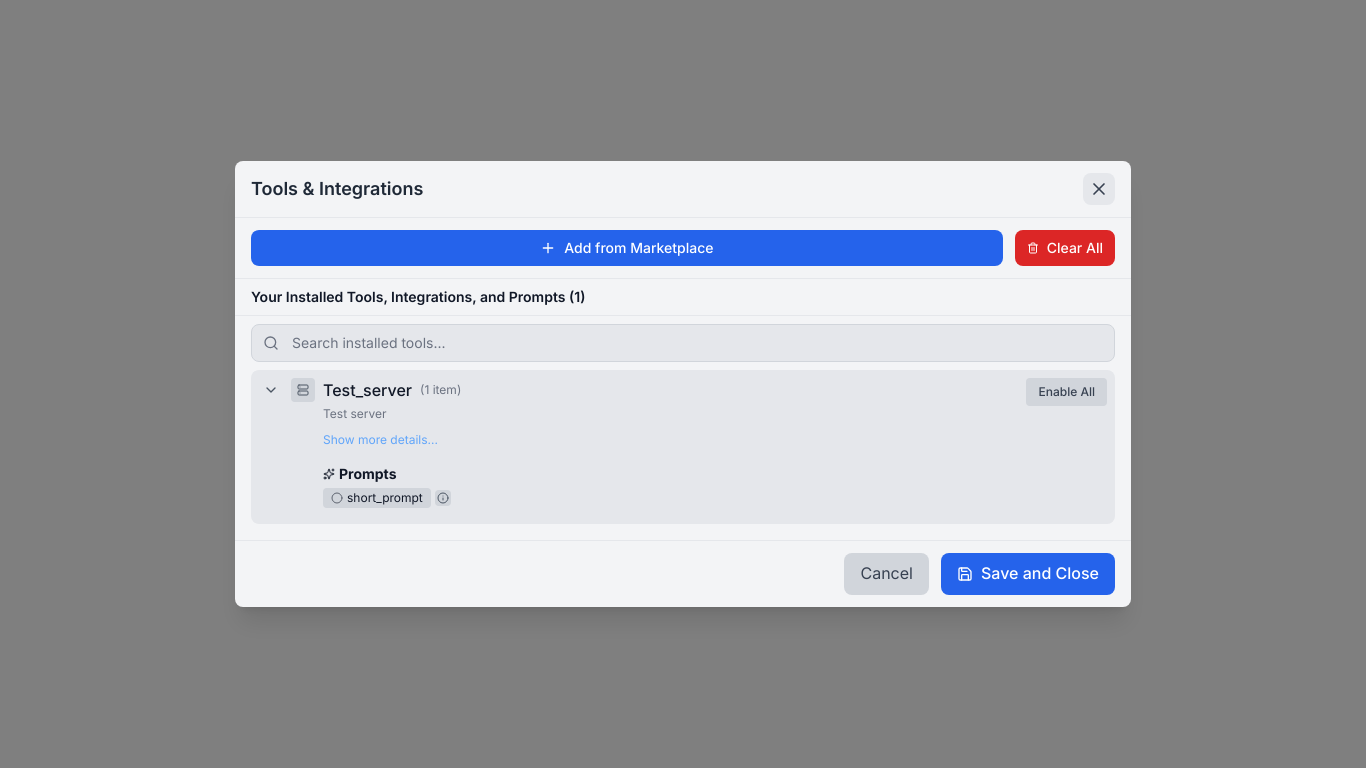
Test: ToolsPanel - Custom Information Display › should not truncate short prompt descriptions
This screenshot has width=1366, height=768.
// Click the info button to expand
Step 1. Click the button titled "Show prompt description" → {"x": 443, "y": 498}, box [435,490,451,506]
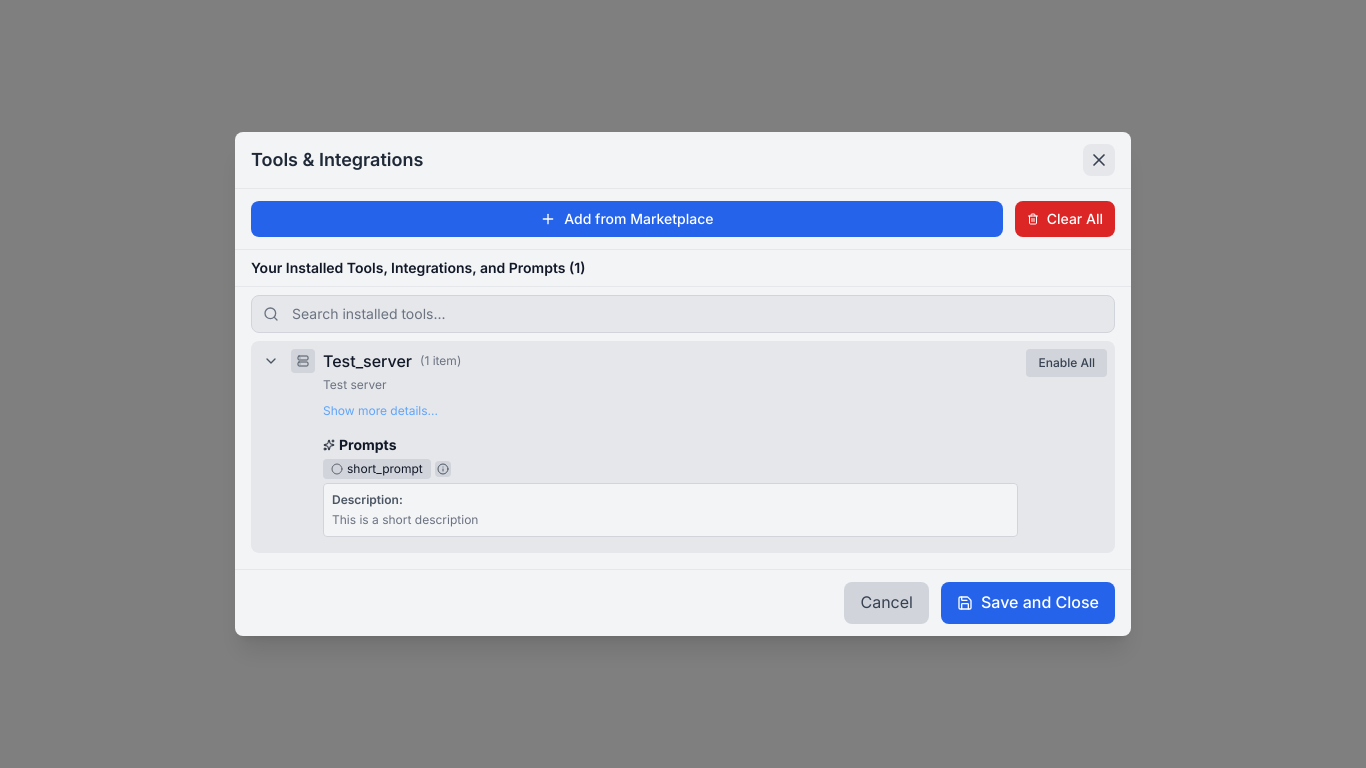
Now the text "This is a short description" is shown, box [332,512,478,527]
